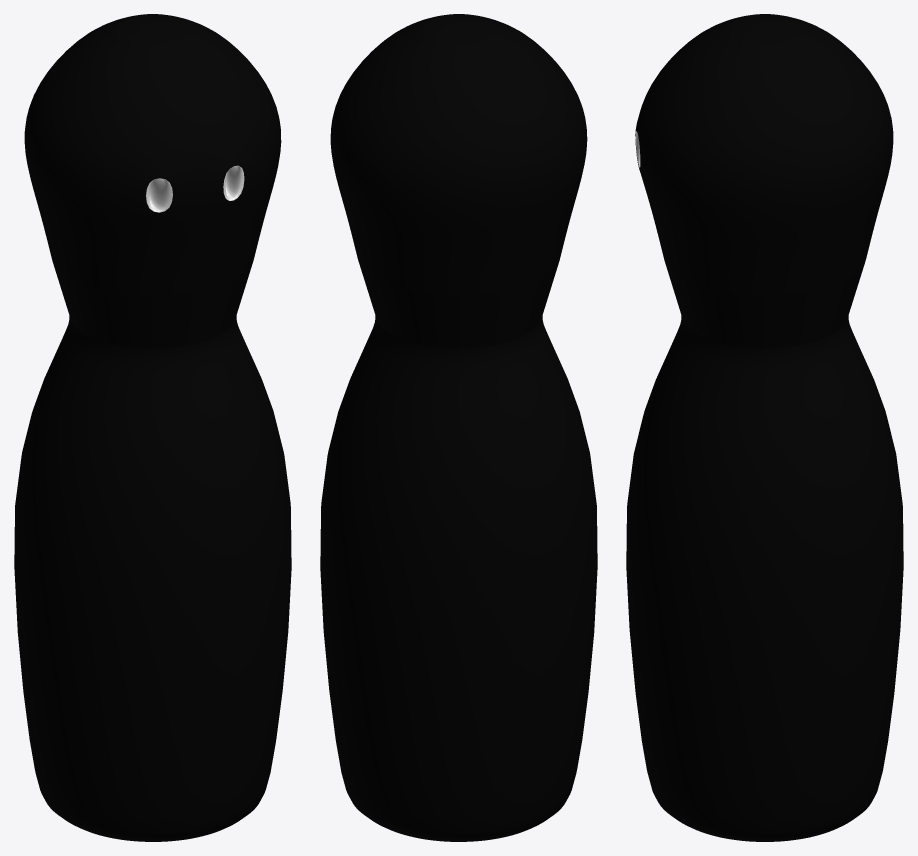
The model's file is ghost2.fbx.
3 views of the same model, side by side, from view 1: azimuth 30°, elevation 25°; view 2: azimuth 150°, elevation 25°; view 3: azimuth 270°, elevation 25° (orthographic).
Visible parts, largest first — view 1: polySurface3; view 2: polySurface3; view 3: polySurface3.
Boxes of the visible parts, x1,y1,x2,y2 form: polySurface3: [14, 14, 291, 841]; polySurface3: [320, 14, 597, 841]; polySurface3: [626, 14, 903, 841].
Bounding box in the file's own units: 1.05 × 3.23 × 1.05.
